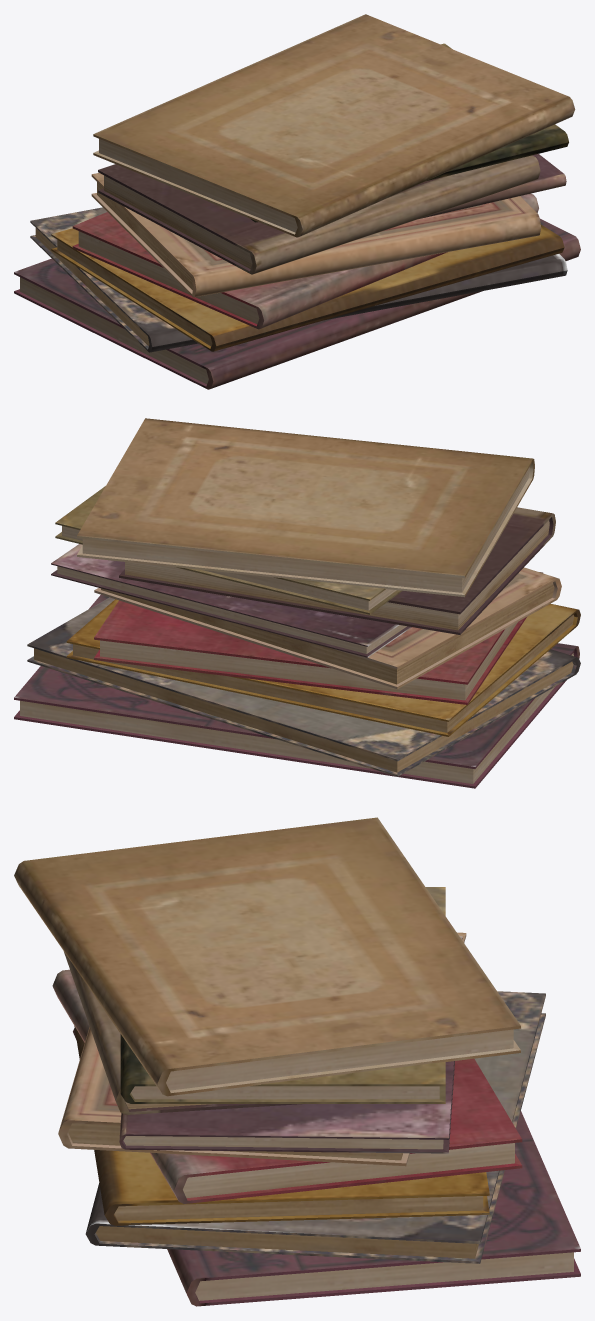
File: SM_Book_Old.049.fbx
3 views of the same model, one above another, from view 1: azimuth 30°, elevation 25°; view 2: azimuth 150°, elevation 25°; view 3: azimuth 270°, elevation 25° (orthographic). The views are drawn at different scales.
Parts seen in each view (by area): view 1: SM_Book_Old.049; view 2: SM_Book_Old.049; view 3: SM_Book_Old.049.
Boxes of the visible parts, x1,y1,x2,y2 form: SM_Book_Old.049: (14,14,580,389); SM_Book_Old.049: (14,418,580,788); SM_Book_Old.049: (14,817,580,1306).
Bounding box in the file's own units: 0.4135 × 0.1491 × 0.339.
